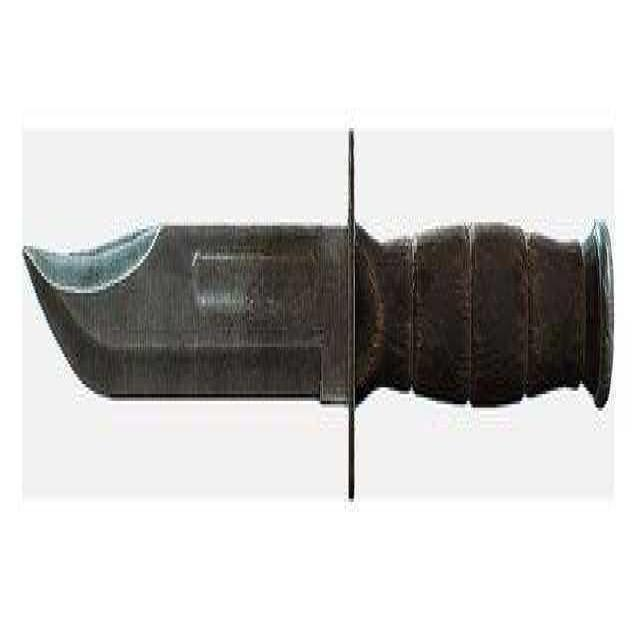knife: (17, 132, 618, 488)
